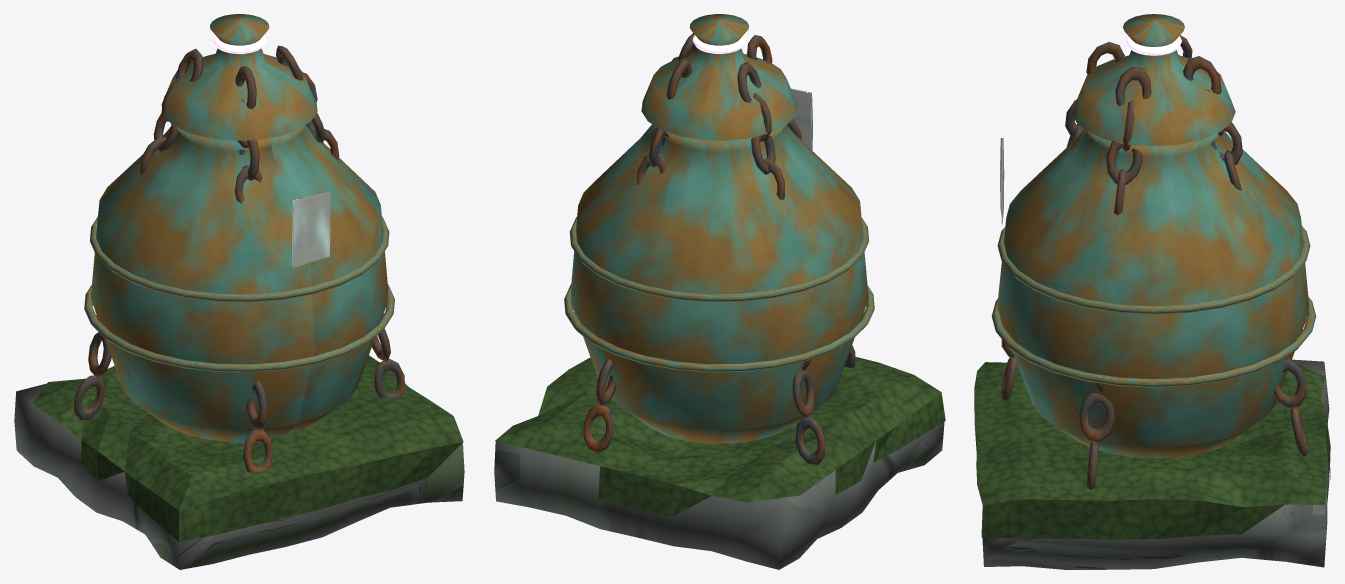
Rendered from sealed_alchemy_vessel.glb.
3 renders of one model, left to right at view 1: azimuth 30°, elevation 25°; view 2: azimuth 150°, elevation 25°; view 3: azimuth 270°, elevation 25°, orthographic. The views are drawn at different scales.
Visible parts, largest first — view 1: sealed_alchemy_vessel__bronze, sealed_alchemy_vessel__moss, sealed_alchemy_vessel__stone_block, sealed_alchemy_vessel__iron, sealed_alchemy_vessel__silk; view 2: sealed_alchemy_vessel__bronze, sealed_alchemy_vessel__moss, sealed_alchemy_vessel__stone_block, sealed_alchemy_vessel__iron, sealed_alchemy_vessel__silk; view 3: sealed_alchemy_vessel__bronze, sealed_alchemy_vessel__moss, sealed_alchemy_vessel__stone_block, sealed_alchemy_vessel__iron, sealed_alchemy_vessel__glow_violet.
Boxes of the visible parts, <box> form: sealed_alchemy_vessel__bronze: <box>84,14,394,443</box>; sealed_alchemy_vessel__moss: <box>33,355,463,541</box>; sealed_alchemy_vessel__stone_block: <box>14,383,464,569</box>; sealed_alchemy_vessel__iron: <box>74,45,404,472</box>; sealed_alchemy_vessel__silk: <box>292,191,330,267</box>; sealed_alchemy_vessel__bronze: <box>564,14,874,443</box>; sealed_alchemy_vessel__moss: <box>495,356,945,517</box>; sealed_alchemy_vessel__stone_block: <box>494,421,944,569</box>; sealed_alchemy_vessel__iron: <box>583,33,855,465</box>; sealed_alchemy_vessel__silk: <box>791,88,812,150</box>; sealed_alchemy_vessel__bronze: <box>991,14,1316,458</box>; sealed_alchemy_vessel__moss: <box>974,362,1330,539</box>; sealed_alchemy_vessel__stone_block: <box>982,359,1329,569</box>; sealed_alchemy_vessel__iron: <box>1001,35,1307,489</box>; sealed_alchemy_vessel__glow_violet: <box>1126,36,1181,55</box>.
Bounding box in the file's own units: 0.9164 × 1.36 × 0.9153.
6 materials, 5 textured.
